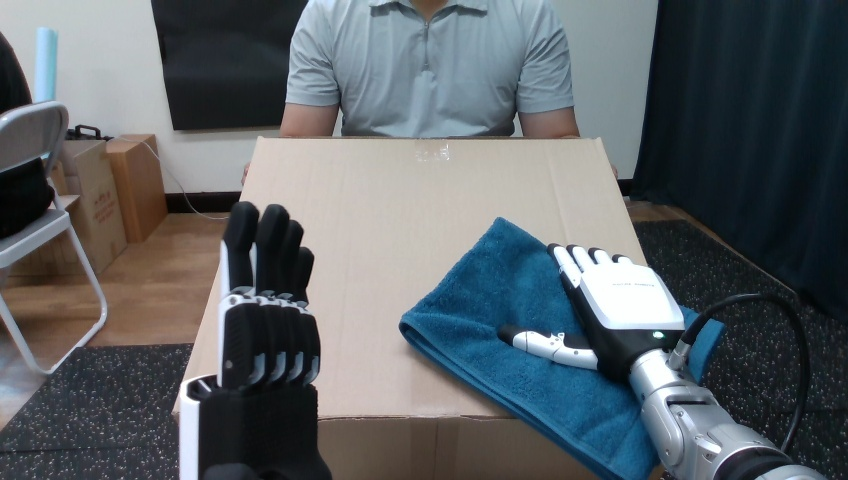left robot hand: (635, 221, 847, 479), (180, 201, 330, 478), (693, 302, 798, 444)
